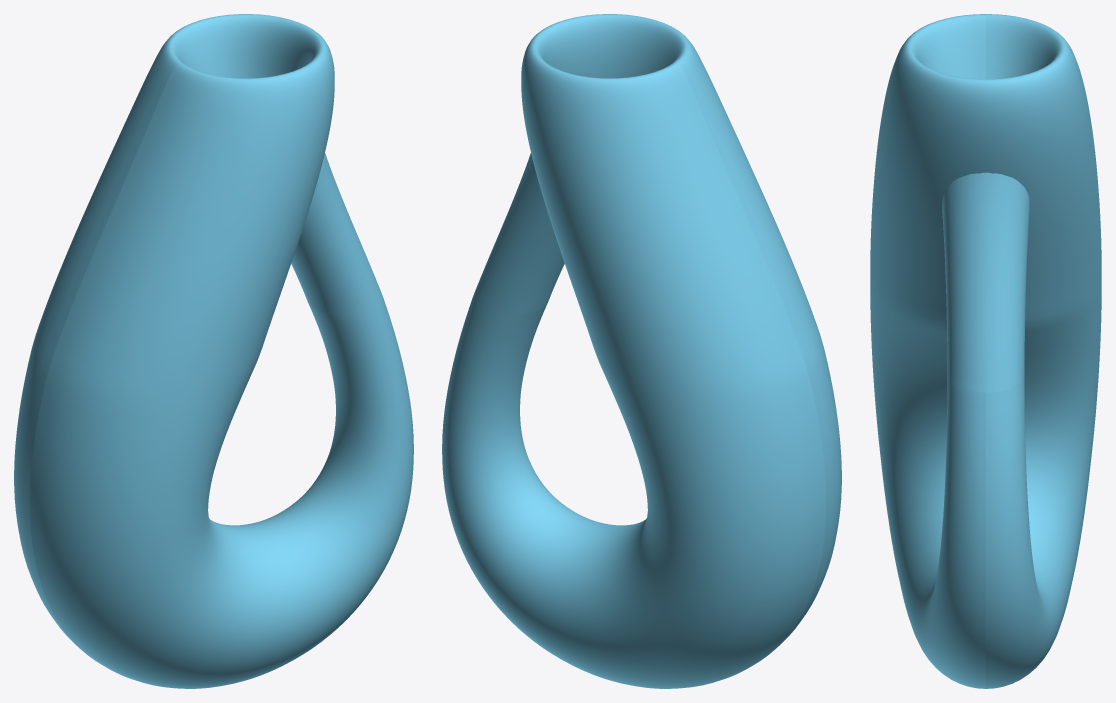
The model's file is klein.glb.
3 views of the same model, side by side, from view 1: azimuth 30°, elevation 25°; view 2: azimuth 150°, elevation 25°; view 3: azimuth 270°, elevation 25° (orthographic).
Bounding box in the file's own units: 0.4113 × 0.6497 × 0.2159.
